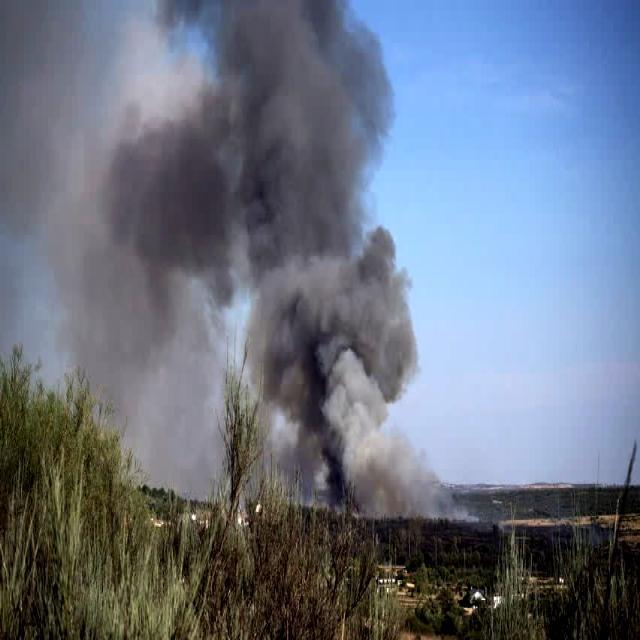Smoke: (54, 0, 427, 517)
